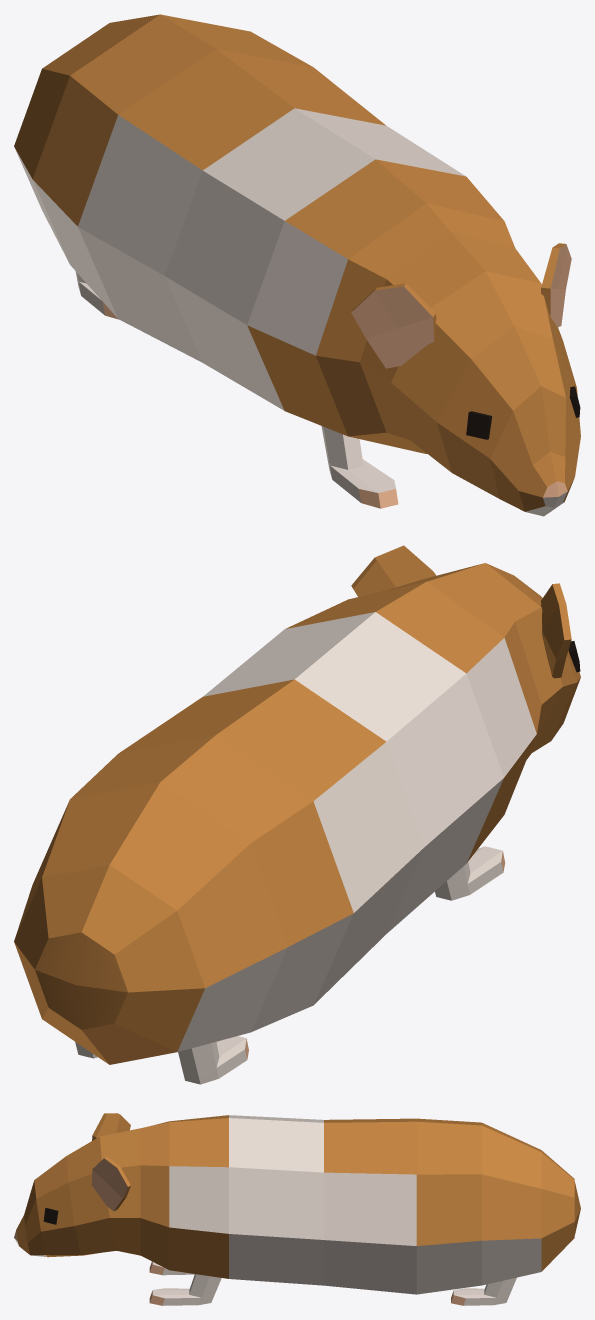
Rendered from Hamster.glb.
3 views of the same model, one above another, from view 1: azimuth 30°, elevation 25°; view 2: azimuth 150°, elevation 25°; view 3: azimuth 270°, elevation 25° (orthographic). The views are drawn at different scales.
Parts seen in each view (by area): view 1: Geo_Hamster; view 2: Geo_Hamster; view 3: Geo_Hamster.
Boxes of the visible parts, x1=… form: Geo_Hamster: x1=14, y1=14, x2=580, y2=516; Geo_Hamster: x1=14, y1=545, x2=580, y2=1084; Geo_Hamster: x1=14, y1=1113, x2=580, y2=1305.
Size of the model in its own units: 36.89 by 37.69 by 112.
1 material, 1 textured.
